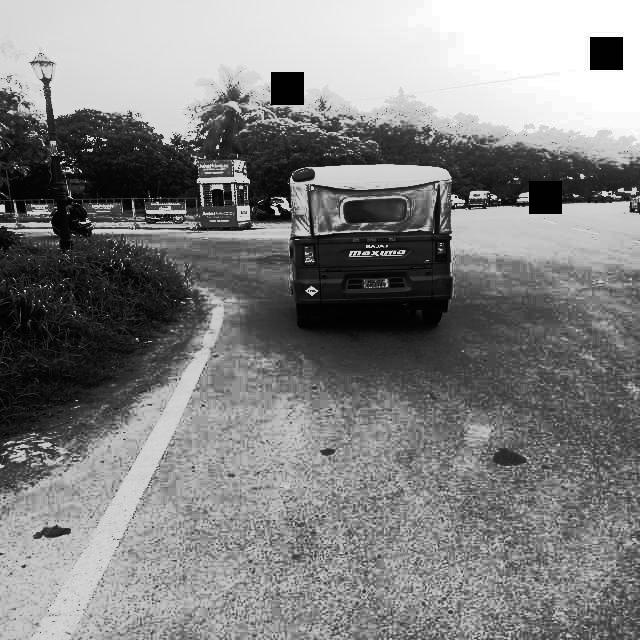Auto-Rickshaw: (284, 166, 457, 338), (468, 188, 492, 210)
